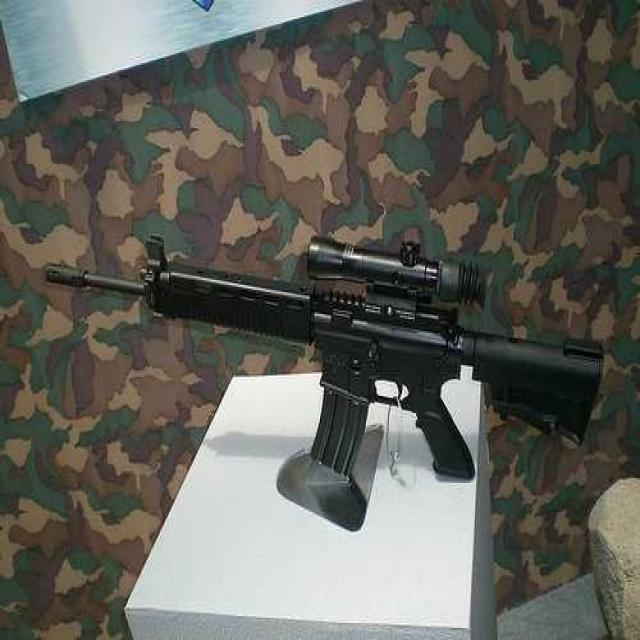RifleTel: (37, 214, 612, 482)
